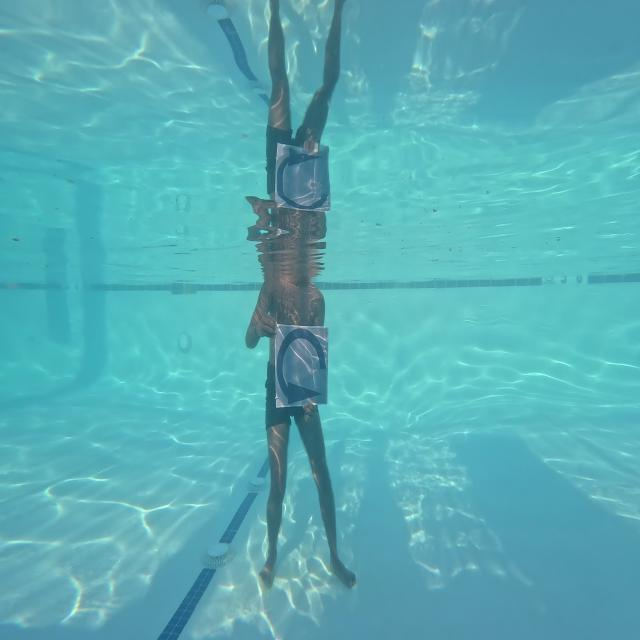blue_side: (268, 321, 332, 418)
